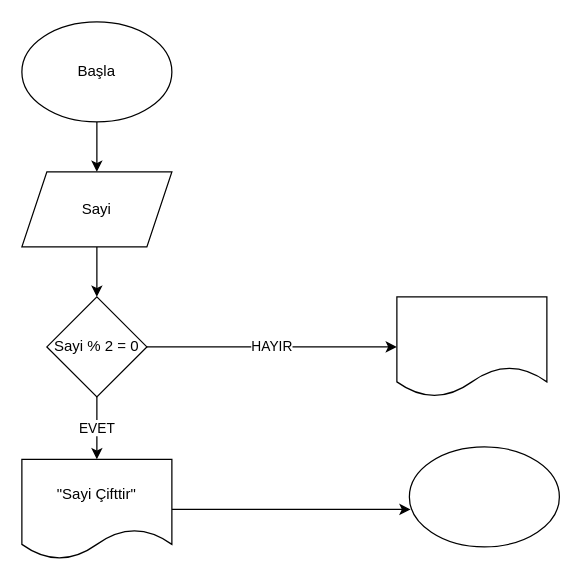
This 581x581 diagram has some shape labels left out. The shapes that lost their labels are listed below. From the top down, each one's box as (x1, y1, x2, y2) in pixels, then its label:
(396, 296, 547, 397): "Sayi Tekdir"
(408, 446, 559, 547): Bitir
